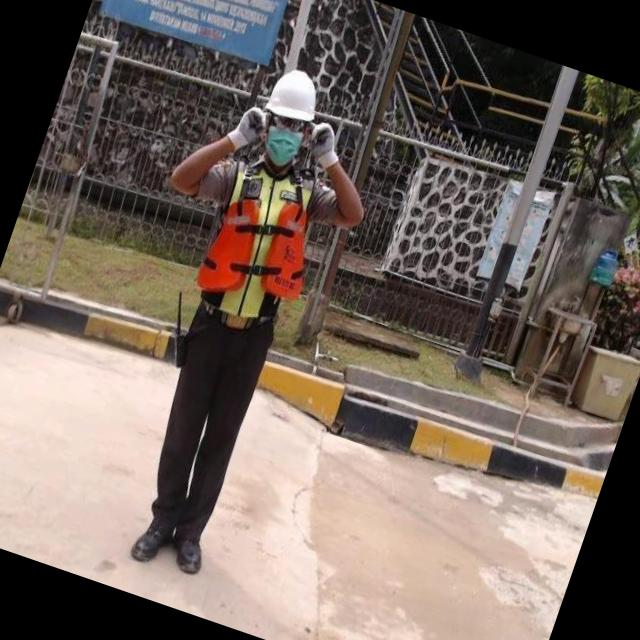hard_hat: (261, 59, 328, 129)
safety_vest: (188, 153, 337, 332)
vehicle: (48, 35, 410, 604)
work_boots: (125, 503, 182, 573), (162, 519, 215, 581)
